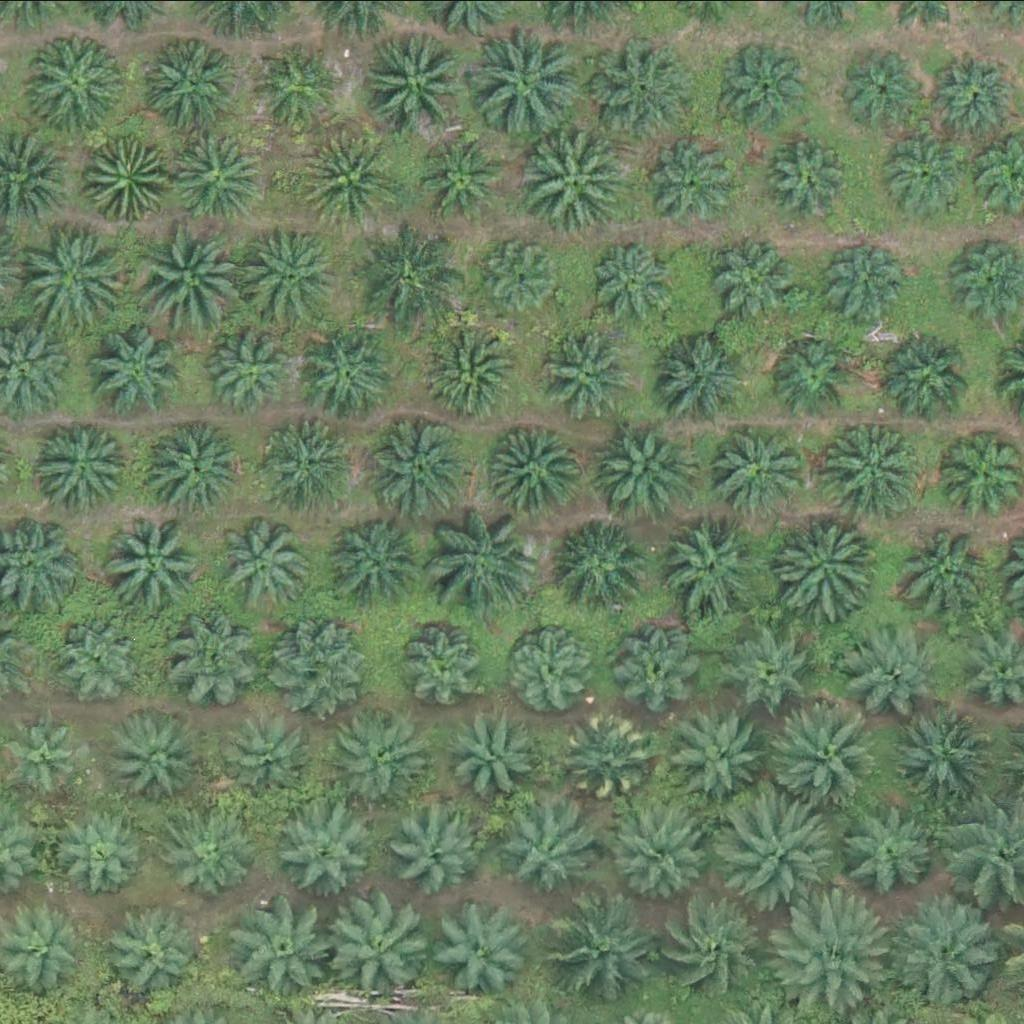Kelapa_Sawit: (327, 890, 441, 1003), (475, 26, 588, 139), (431, 500, 544, 613), (347, 215, 460, 328), (22, 215, 135, 328), (727, 792, 841, 904), (551, 891, 665, 1003), (360, 21, 474, 133), (519, 127, 632, 239), (773, 695, 886, 807), (886, 899, 999, 1011), (771, 899, 884, 1011), (658, 895, 771, 1007), (236, 217, 349, 329), (126, 222, 239, 334), (592, 42, 693, 142), (421, 325, 522, 425), (650, 323, 751, 423), (882, 327, 983, 427), (826, 417, 927, 517), (554, 513, 655, 613), (666, 517, 767, 617), (782, 517, 883, 617), (671, 702, 772, 802), (832, 803, 933, 903), (432, 891, 533, 991), (110, 906, 211, 1006), (235, 891, 336, 991), (330, 707, 431, 807), (163, 607, 264, 707), (267, 609, 368, 709), (102, 506, 203, 606), (217, 513, 318, 613), (326, 509, 427, 609), (369, 415, 470, 515), (145, 416, 246, 516), (89, 323, 190, 423), (301, 320, 402, 420), (300, 130, 401, 230), (144, 31, 245, 131), (20, 32, 121, 132), (488, 418, 588, 518), (593, 417, 693, 517), (898, 515, 998, 615), (842, 614, 942, 714), (898, 707, 998, 807), (614, 808, 714, 908), (273, 800, 373, 900), (256, 408, 356, 508), (32, 413, 132, 513), (478, 229, 566, 317), (585, 240, 673, 328), (713, 236, 801, 324), (815, 243, 903, 331), (763, 141, 851, 229), (718, 43, 806, 131), (546, 327, 634, 415), (392, 810, 480, 898), (508, 809, 596, 897), (63, 811, 151, 899), (107, 709, 195, 797), (57, 614, 145, 702), (170, 131, 258, 219), (421, 135, 509, 223), (245, 37, 333, 125), (882, 131, 970, 218), (646, 140, 734, 227), (843, 46, 931, 133), (927, 45, 1015, 132), (768, 332, 856, 419), (712, 423, 800, 510), (406, 620, 494, 707), (515, 623, 603, 710), (614, 620, 702, 707), (731, 623, 819, 710), (567, 713, 655, 800), (452, 714, 540, 801), (170, 813, 258, 900), (228, 715, 316, 802), (203, 326, 291, 413), (78, 134, 166, 221)
